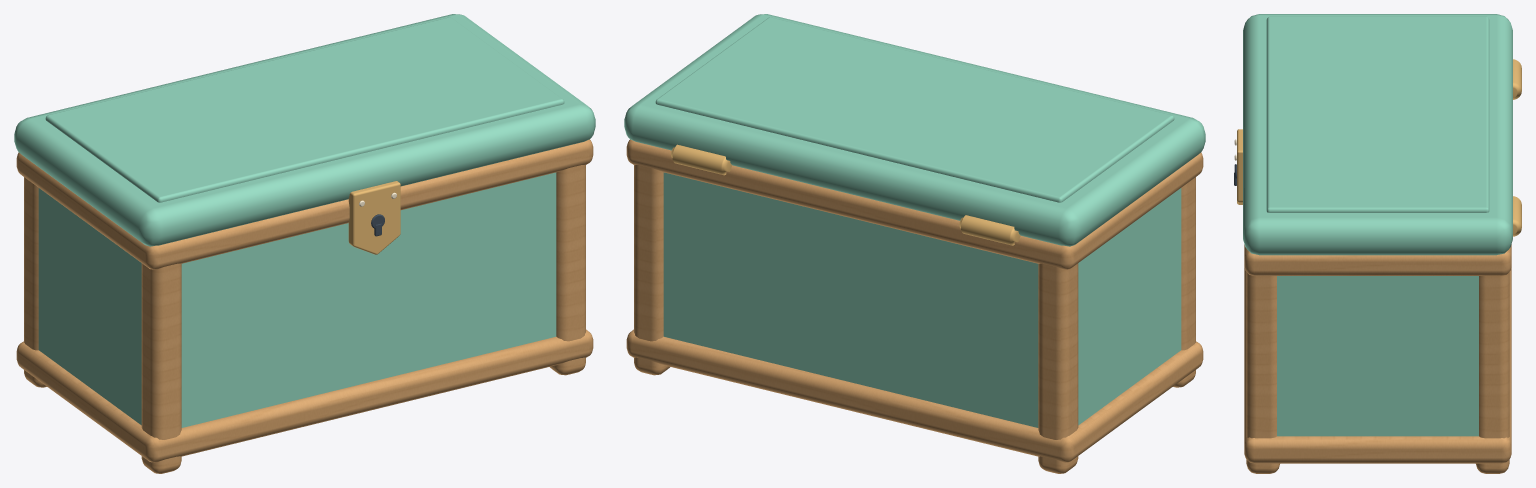
The model's file is playroom_toy_chest.glb.
3 views of the same model, side by side, from view 1: azimuth 30°, elevation 25°; view 2: azimuth 150°, elevation 25°; view 3: azimuth 270°, elevation 25° (orthographic). The views are drawn at different scales.
Visible parts, largest first — view 1: playroom_toy_chest; view 2: playroom_toy_chest; view 3: playroom_toy_chest.
Boxes of the visible parts, bbox=[...] form: playroom_toy_chest: bbox=[14, 14, 595, 473]; playroom_toy_chest: bbox=[624, 14, 1205, 473]; playroom_toy_chest: bbox=[1234, 14, 1521, 473].
Size of the model in its own units: 2.27 by 1.29 by 1.28.
5 materials, 1 textured.
